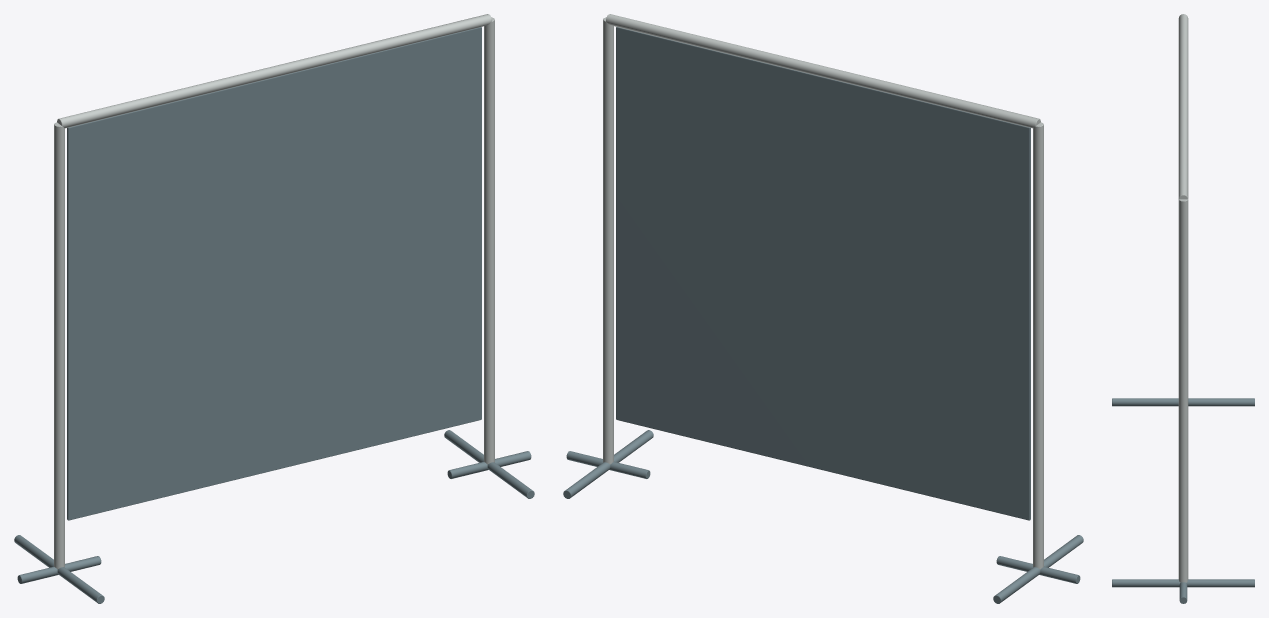
Rendered from green-screen.glb.
The picture shows the model from 3 angles, left to right: view 1: azimuth 30°, elevation 25°; view 2: azimuth 150°, elevation 25°; view 3: azimuth 270°, elevation 25°; orthographic projection. The views are drawn at different scales.
Visible parts, largest first — view 1: chroma_fabric, top_crossbar, support_pole, support_pole.001, stand_foot, stand_foot.001, stand_brace.001, stand_brace; view 2: chroma_fabric, top_crossbar, support_pole, support_pole.001, stand_foot, stand_foot.001, stand_brace.001, stand_brace; view 3: support_pole.001, top_crossbar, stand_foot.001, stand_foot.
Boxes of the visible parts, x1,y1,x2,y2 form: chroma_fabric: [67, 27, 481, 520]; top_crossbar: [57, 14, 491, 128]; support_pole: [54, 122, 64, 569]; support_pole.001: [484, 17, 494, 464]; stand_foot: [14, 535, 104, 603]; stand_foot.001: [444, 430, 534, 498]; stand_brace.001: [447, 451, 531, 478]; stand_brace: [17, 556, 101, 583]; chroma_fabric: [616, 27, 1030, 520]; top_crossbar: [606, 14, 1040, 128]; support_pole: [1033, 122, 1043, 569]; support_pole.001: [603, 17, 613, 464]; stand_foot: [993, 535, 1083, 603]; stand_foot.001: [563, 430, 653, 498]; stand_brace.001: [566, 451, 650, 478]; stand_brace: [996, 556, 1080, 583]; support_pole.001: [1178, 199, 1188, 582]; top_crossbar: [1178, 14, 1188, 199]; stand_foot.001: [1112, 579, 1254, 587]; stand_foot: [1112, 398, 1254, 406].
Bounding box in the file's own units: 3.2 × 2.73 × 0.9.
